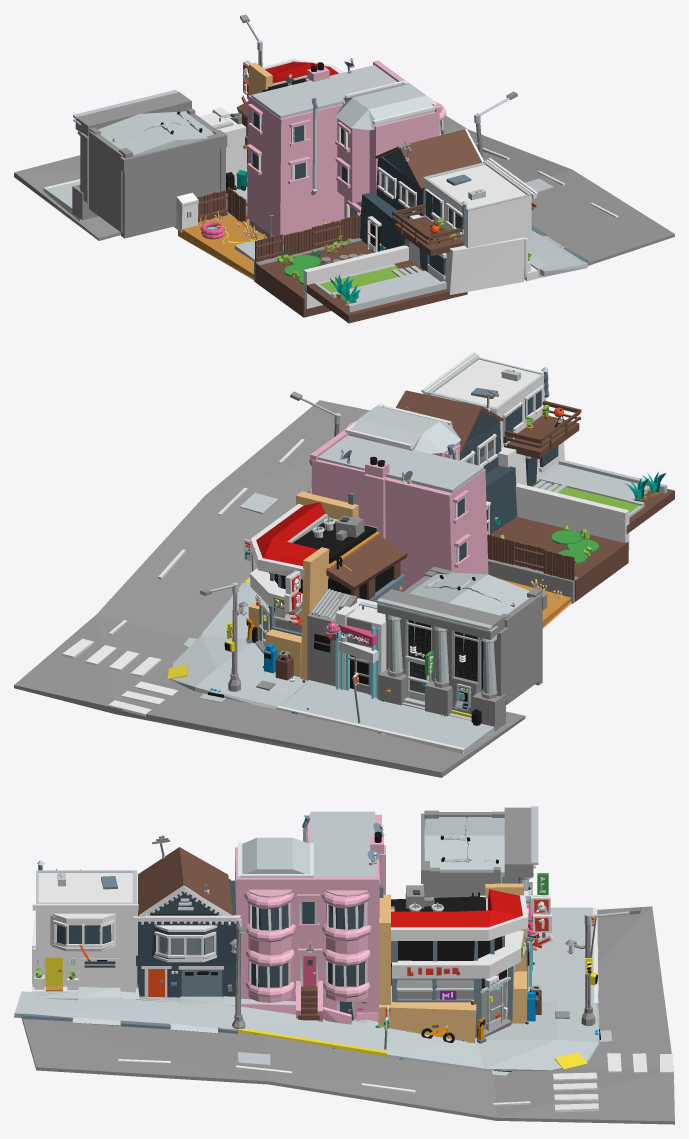
The model's file is FINISHED 1ST TOWN SECTION.fbx.
3 renders of one model, top to bottom at view 1: azimuth 30°, elevation 25°; view 2: azimuth 150°, elevation 25°; view 3: azimuth 270°, elevation 25°, orthographic. The views are drawn at different scales.
Parts seen in each view (by area): view 1: group892455447, group1855824391, group284740563, group247688703, group562006303, group1933068889, group522730016, group1421539807, group1348016452, group1667746924, group1350899225, group1583477956 (+24 smaller); view 2: group892455447, group1855824391, group1105155231, group1179754258, group1933068889, group998772054, group1350899225, group247688703, group522730016, group1421539807, group1348016452, group512663821 (+33 smaller); view 3: group892455447, group1105155231, group1583477956, group247688703, group1179754258, group1933068889, group522730016, group1983641924, group1671810338, group1362634429, group290091007, group1348016452 (+41 smaller).
Boxes of the visible parts, x1=… form: group892455447: x1=14, y1=115, x2=674, y2=265; group1855824391: x1=247, y1=95, x2=344, y2=238; group284740563: x1=121, y1=149, x2=219, y2=238; group247688703: x1=422, y1=164, x2=531, y2=247; group562006303: x1=409, y1=214, x2=524, y2=294; group1933068889: x1=251, y1=65, x2=396, y2=118; group522730016: x1=98, y1=111, x2=214, y2=155; group1421539807: x1=89, y1=131, x2=123, y2=232; group1348016452: x1=335, y1=83, x2=434, y2=130; group1667746924: x1=399, y1=130, x2=481, y2=189; group1350899225: x1=255, y1=240, x2=373, y2=317; group1583477956: x1=342, y1=102, x2=439, y2=218; group892455447: x1=14, y1=400, x2=525, y2=777; group1855824391: x1=384, y1=469, x2=488, y2=591; group1105155231: x1=170, y1=582, x2=309, y2=708; group1179754258: x1=280, y1=680, x2=502, y2=753; group1933068889: x1=317, y1=435, x2=483, y2=492; group998772054: x1=515, y1=483, x2=629, y2=550; group1350899225: x1=490, y1=517, x2=628, y2=601; group247688703: x1=427, y1=359, x2=546, y2=448; group522730016: x1=409, y1=572, x2=529, y2=615; group1421539807: x1=504, y1=594, x2=541, y2=704; group1348016452: x1=348, y1=406, x2=460, y2=453; group512663821: x1=472, y1=627, x2=508, y2=731; group892455447: x1=21, y1=906, x2=674, y2=1124; group1105155231: x1=14, y1=991, x2=599, y2=1071; group1583477956: x1=235, y1=847, x2=379, y2=1018; group247688703: x1=36, y1=871, x2=137, y2=955; group1179754258: x1=527, y1=907, x2=593, y2=1003; group1933068889: x1=310, y1=811, x2=375, y2=876; group522730016: x1=423, y1=817, x2=504, y2=877; group1983641924: x1=378, y1=985, x2=476, y2=1043; group1671810338: x1=391, y1=896, x2=502, y2=966; group1362634429: x1=391, y1=889, x2=522, y2=927; group290091007: x1=392, y1=930, x2=523, y2=978; group1348016452: x1=242, y1=837, x2=310, y2=873.
Bounding box in the file's own units: 577 × 236 × 760.
